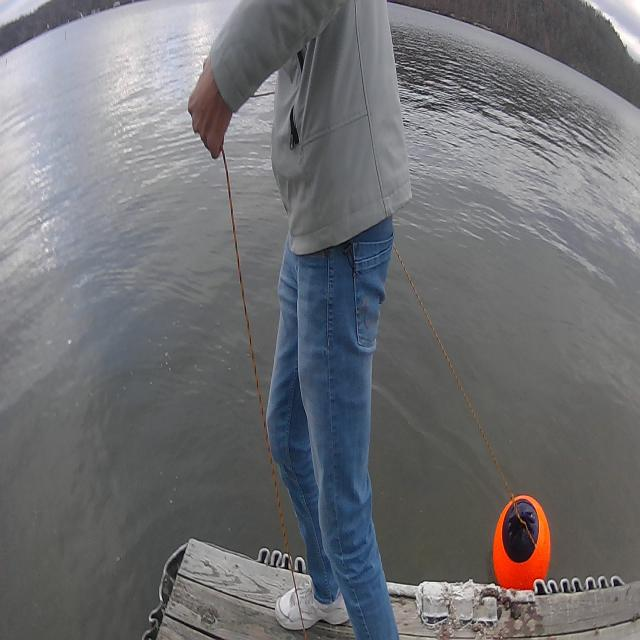Buoy: (488, 491, 555, 603)
